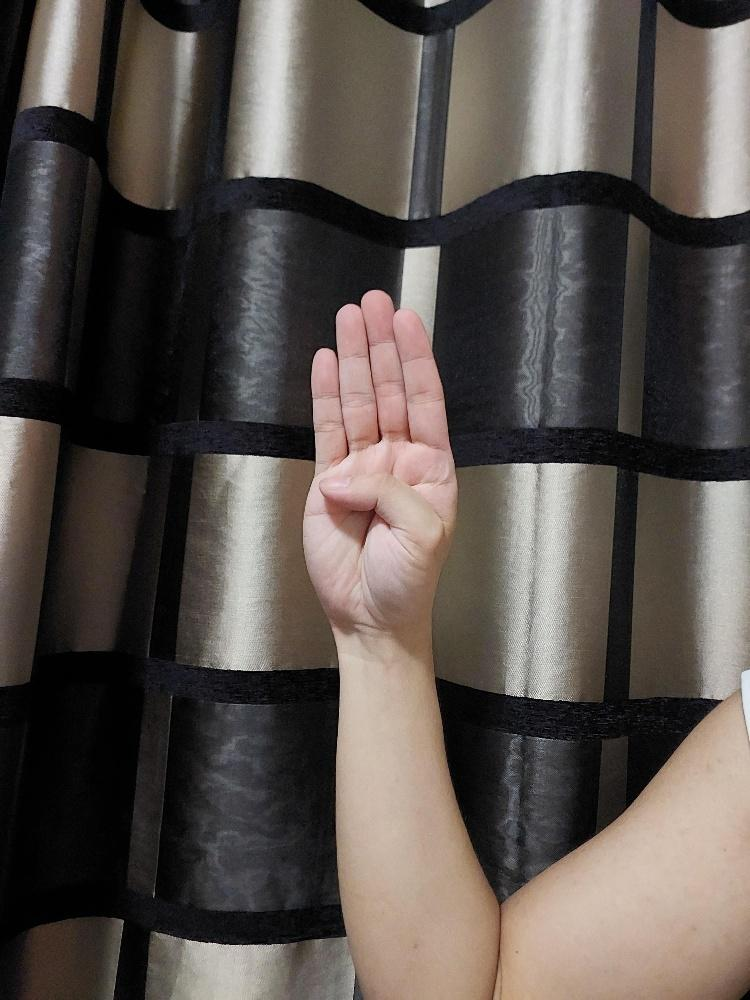b: (300, 285, 458, 638)
